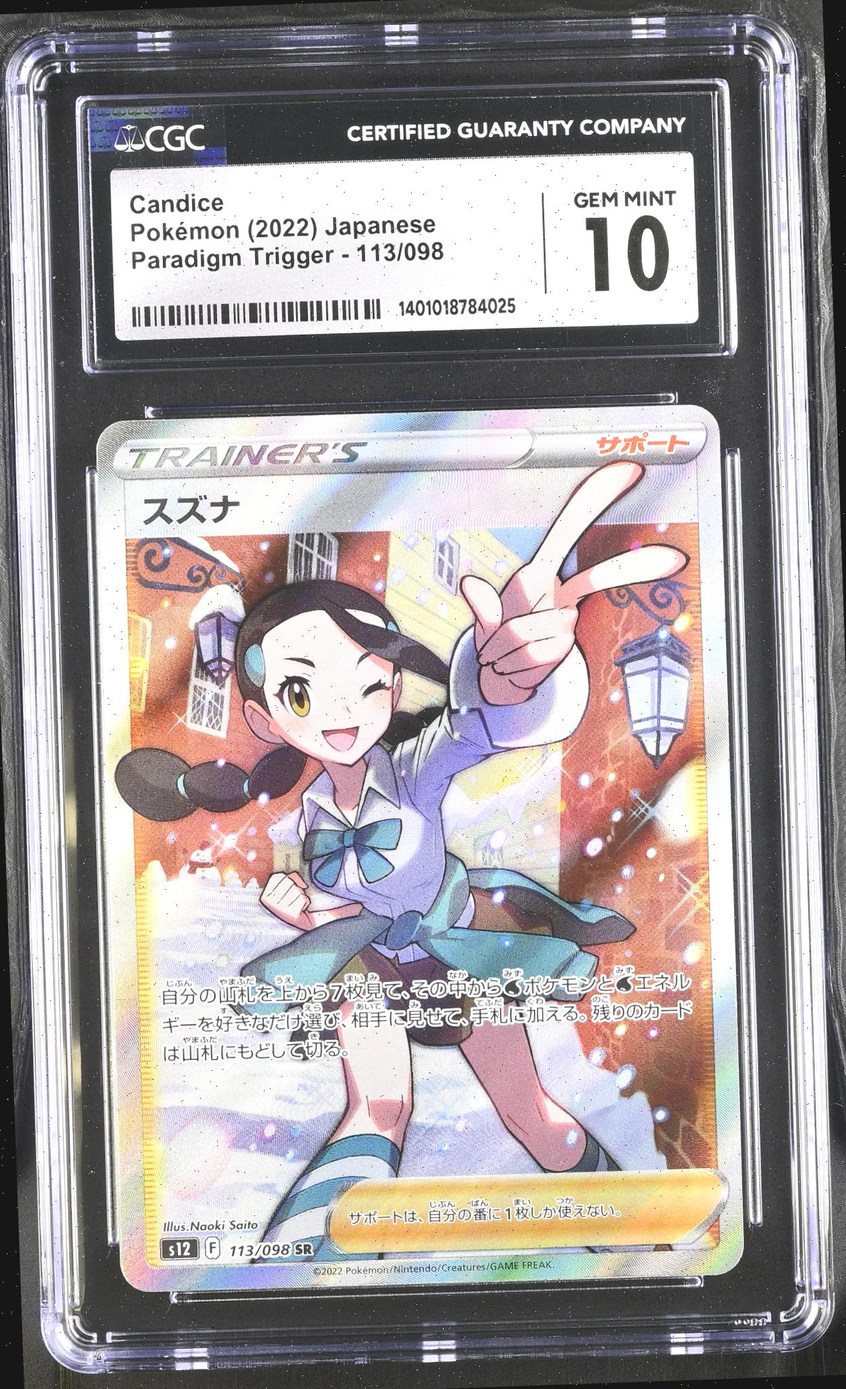card-2UtV: (95, 404, 744, 1292)
